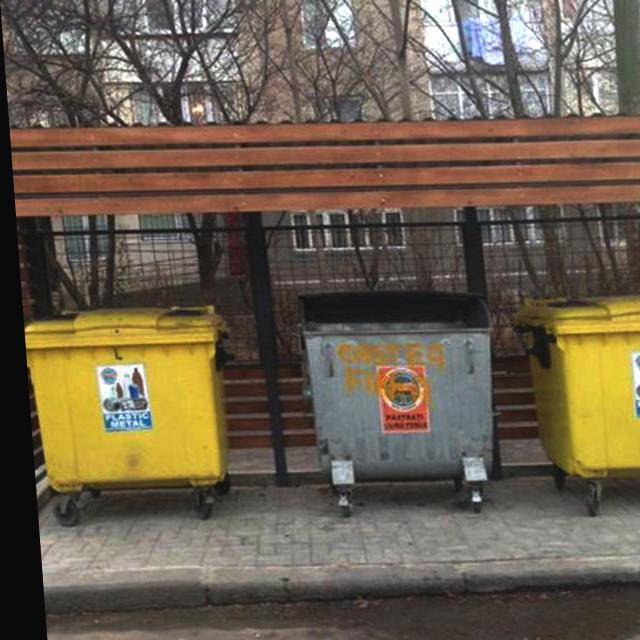Trash_Can_Closed: (19, 304, 228, 490), (508, 294, 640, 474)
Trash_Can_Empty: (290, 287, 498, 477)
